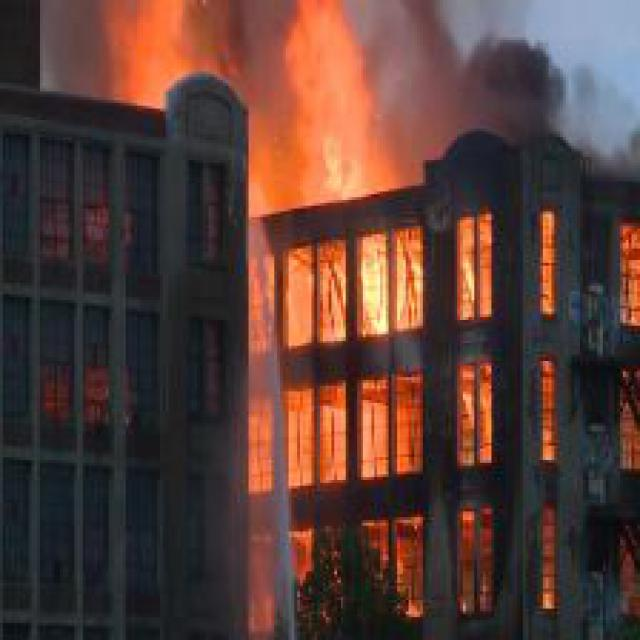fire: (251, 6, 423, 217)
